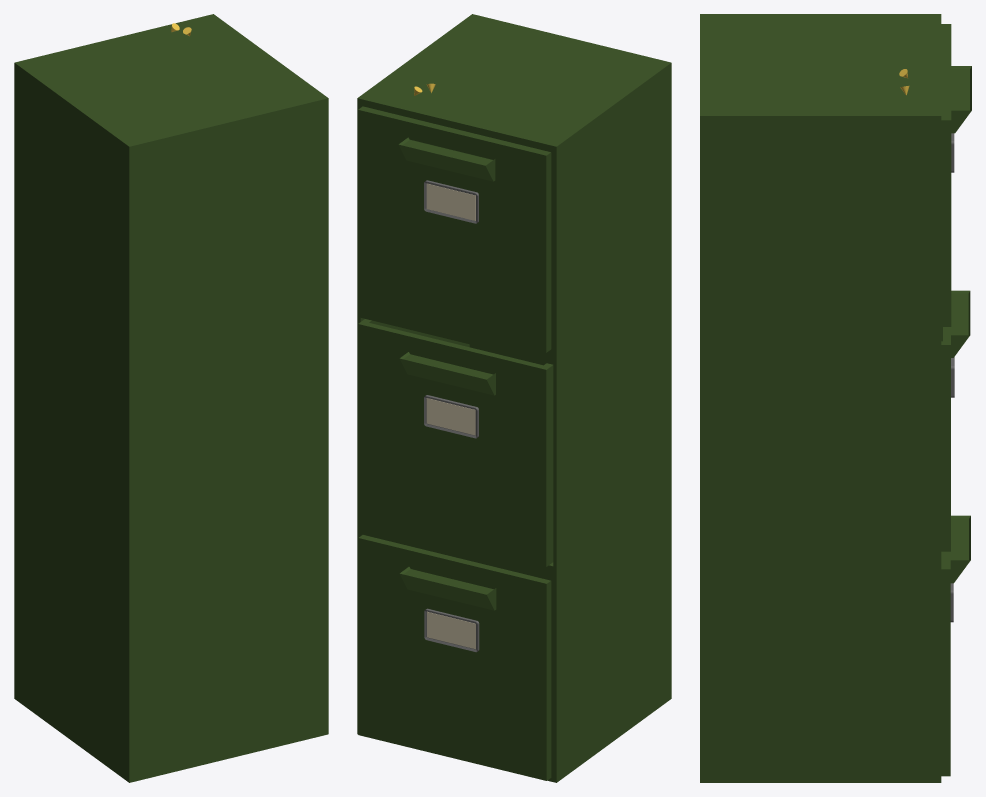
The model's file is casier_ref.glb.
3 views of the same model, side by side, from view 1: azimuth 30°, elevation 25°; view 2: azimuth 150°, elevation 25°; view 3: azimuth 270°, elevation 25° (orthographic). The views are drawn at different scales.
Parts seen in each view (by area): view 1: model; view 2: model; view 3: model.
Boxes of the visible parts, left/top/right/bottom form: model: left=14, top=14, right=328, bottom=782; model: left=357, top=14, right=671, bottom=782; model: left=700, top=14, right=971, bottom=782.
Bounding box in the file's own units: 3.7 × 11.57 × 4.17.
